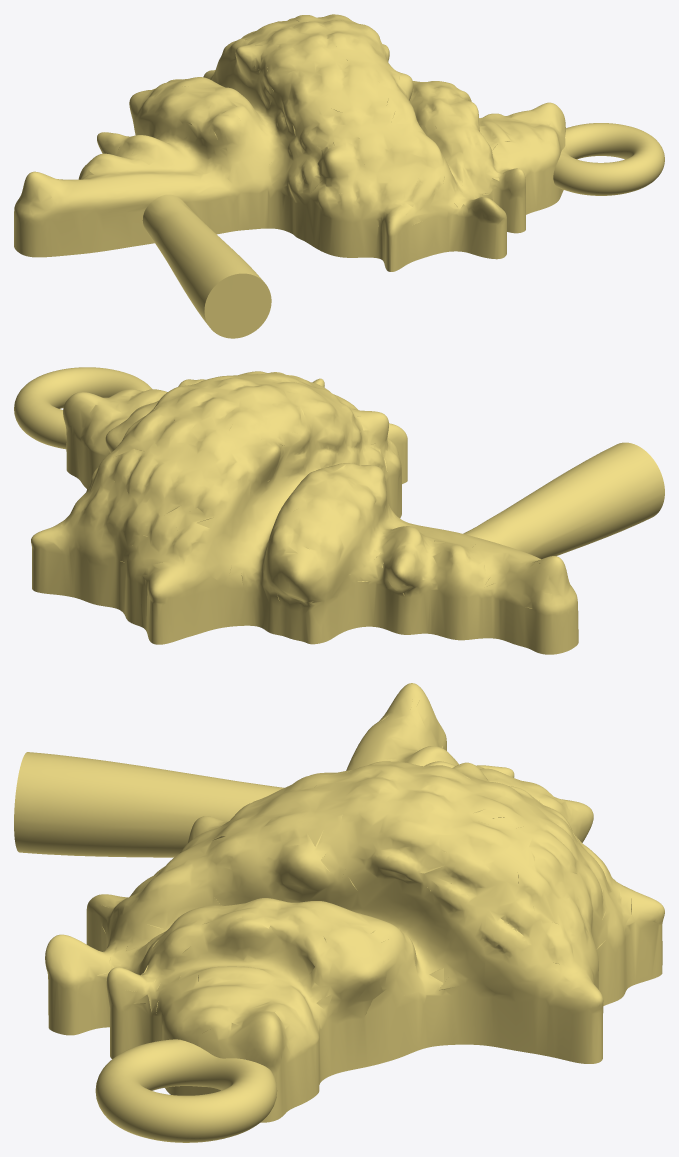
Rendered from shell_03_of_hollow_of_bool.glb.
3 renders of one model, top to bottom at view 1: azimuth 30°, elevation 25°; view 2: azimuth 150°, elevation 25°; view 3: azimuth 270°, elevation 25°, orthographic. The views are drawn at different scales.
Parts seen in each view (by area): view 1: Renderer Node; view 2: Renderer Node; view 3: Renderer Node.
Boxes of the visible parts, x1,y1,x2,y2 form: Renderer Node: (14,14,664,338); Renderer Node: (14,367,664,654); Renderer Node: (14,683,664,1142).
Bounding box in the file's own units: 13.65 × 3.66 × 9.67.
